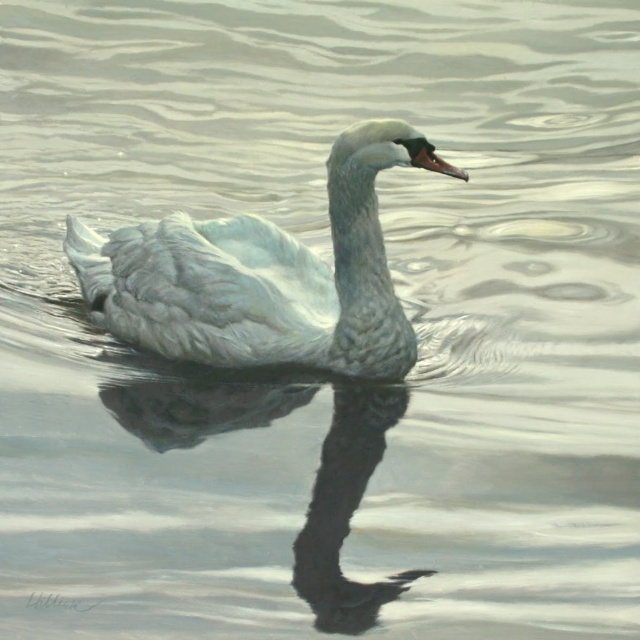Swan: (62, 118, 469, 380)
